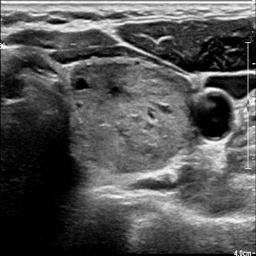mass: (73, 61, 190, 179)
